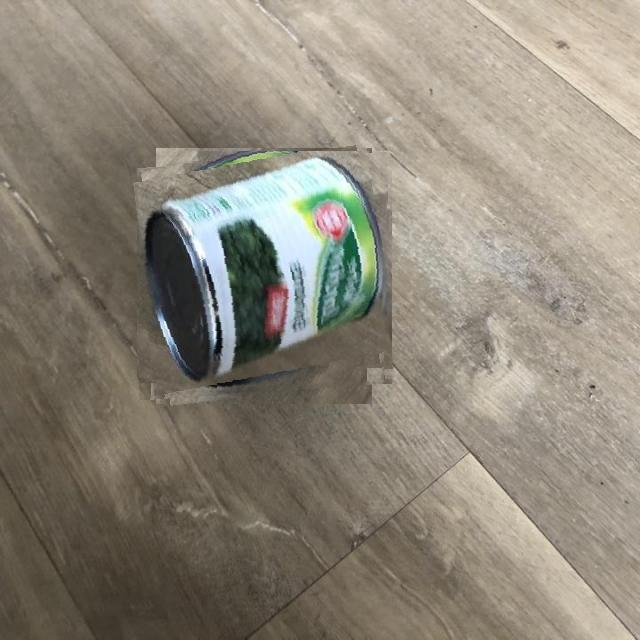recyclable: (139, 151, 389, 401)
